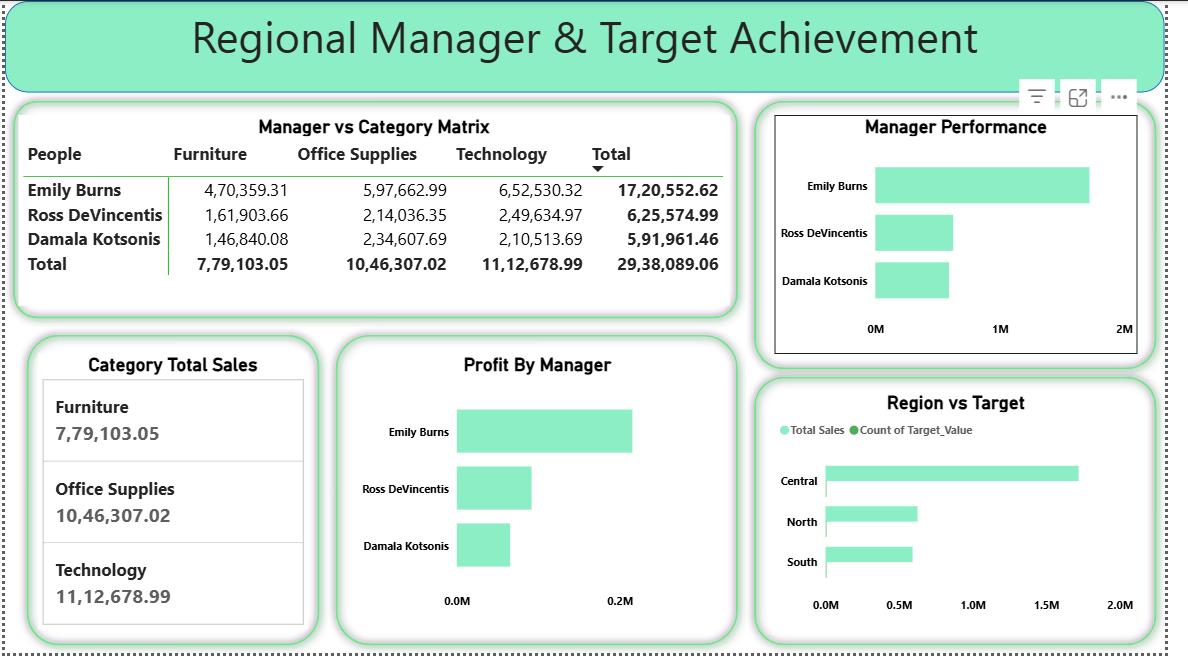

The page's visual inventory and layout, read from the dashboard file:
{"tool":"powerbi","page":{"name":"Reg Manager & Target Ach","canvas":[1280,720],"ordinal":1},"visuals":[{"type":"shape","box":[0,0,1280.5,101],"z":0},{"type":"textbox","box":[0,0,1280.5,101],"z":1000},{"type":"shape","box":[818.3,101,462.2,314.7],"z":2000},{"type":"clusteredBarChart","title":"Manager Performance","fields":{"Category":["People.People"],"Y":["final_dataset.Total Sales"]},"box":[849.8,125.9,400.9,263.4],"z":3000},{"type":"shape","box":[0,101,818.3,258.4],"z":4000},{"type":"pivotTable","title":"Manager vs Category Matrix","fields":{"Rows":["People.People"],"Values":["final_dataset.Total Sales"],"Columns":["final_dataset.Category"]},"box":[14.9,125.9,785.2,210.4],"z":5000},{"type":"shape","box":[818.3,405.8,462.2,314.7],"z":6000},{"type":"shape","box":[356.1,359.5,462.2,361.1],"z":7000},{"type":"shape","box":[14.9,359.5,341.2,361.1],"z":8000},{"type":"advancedSlicerVisual","title":"Category Total Sales","fields":{"Label":["final_dataset.Total Sales"],"Values":["final_dataset.Category"]},"box":[36.4,389.3,298.2,304.8],"z":9000},{"type":"clusteredBarChart","title":"Region vs Target","fields":{"Y":["final_dataset.Total Sales","CountNonNull(Target.Target_Value)"],"Category":["People.Region"]},"box":[849.8,430.7,400.9,263.4],"z":11000},{"type":"clusteredBarChart","title":"Profit By Manager","fields":{"Category":["People.People"],"Y":["final_dataset.Total Profit"]},"box":[387.6,389.3,400.9,304.8],"z":12000}]}

Visuals, with their boxes in screenshot pixels (x1, y1, x2, y2), scaled from the page's 1280x720 canvas onto the 1188x660 screenshot:
shape: bbox=(0, 0, 1187, 93)
textbox: bbox=(0, 0, 1187, 93)
shape: bbox=(759, 93, 1187, 381)
"Manager Performance" clusteredBarChart: bbox=(789, 115, 1161, 357)
shape: bbox=(0, 93, 759, 329)
"Manager vs Category Matrix" pivotTable: bbox=(14, 115, 743, 308)
shape: bbox=(759, 372, 1187, 659)
shape: bbox=(331, 330, 759, 659)
shape: bbox=(14, 330, 331, 659)
"Category Total Sales" advancedSlicerVisual: bbox=(34, 357, 311, 636)
"Region vs Target" clusteredBarChart: bbox=(789, 395, 1161, 636)
"Profit By Manager" clusteredBarChart: bbox=(360, 357, 732, 636)
